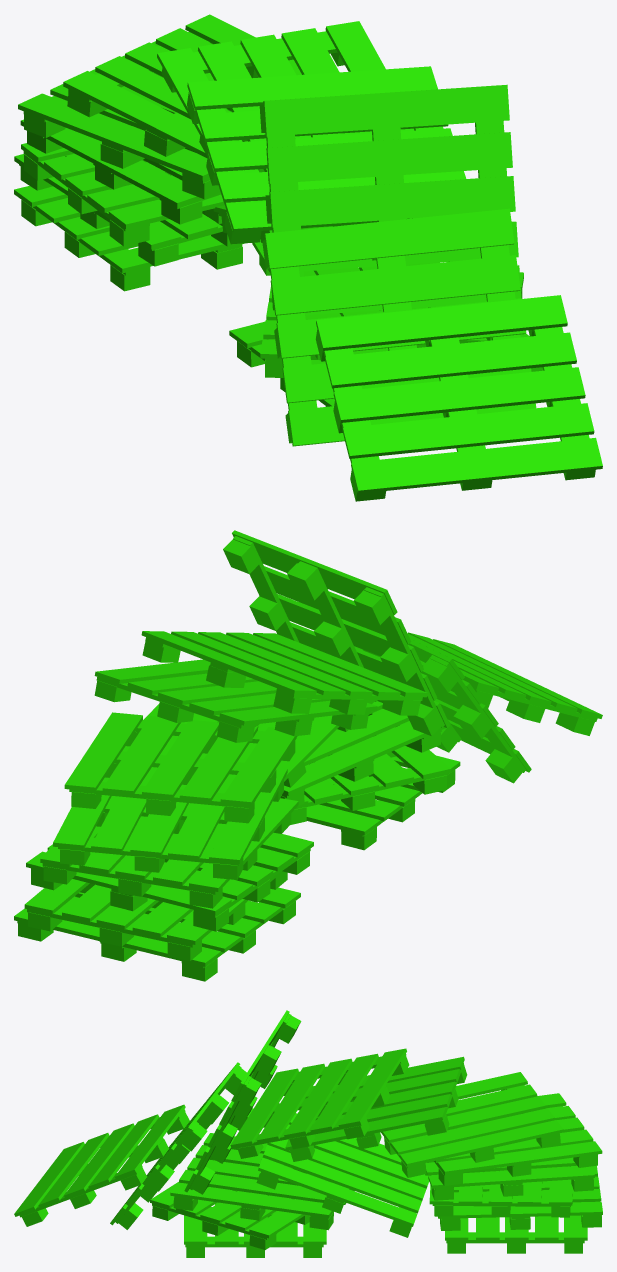
File: Pallet_Pile_03_Lod0.fbx
The picture shows the model from 3 angles, top to bottom: view 1: azimuth 30°, elevation 25°; view 2: azimuth 150°, elevation 25°; view 3: azimuth 270°, elevation 25°; orthographic projection. The views are drawn at different scales.
Parts seen in each view (by area): view 1: Pallet_Pile_03_Lod0; view 2: Pallet_Pile_03_Lod0; view 3: Pallet_Pile_03_Lod0.
Part boxes in pixels (<box>): Pallet_Pile_03_Lod0: <box>14,14,602,501</box>; Pallet_Pile_03_Lod0: <box>14,530,602,981</box>; Pallet_Pile_03_Lod0: <box>14,1010,602,1257</box>.
Size of the model in its own units: 207 by 169 by 498.
